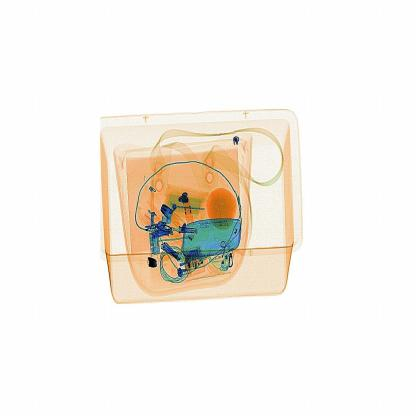wrench: (141, 249, 164, 282)
